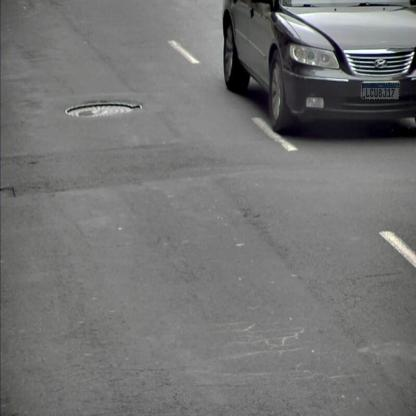PlacaM: (362, 83, 399, 100)
